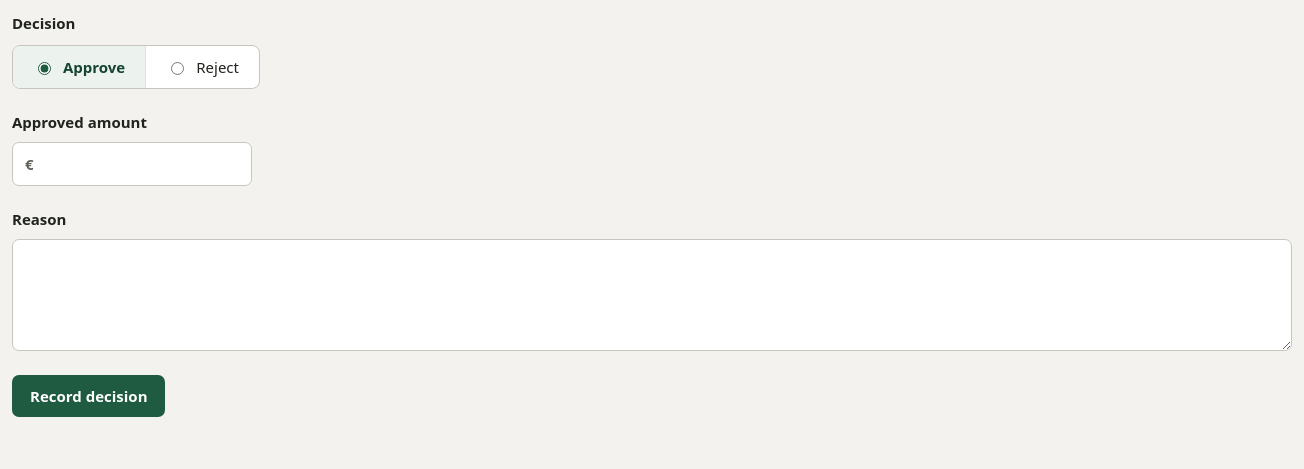
Test case: DecisionForm amount validation › requires a non-empty reason
The width and height of the screenshot is (1304, 469).
In the field labelled "Approved amount €": (142, 164) [34,142,251,185], type "100"
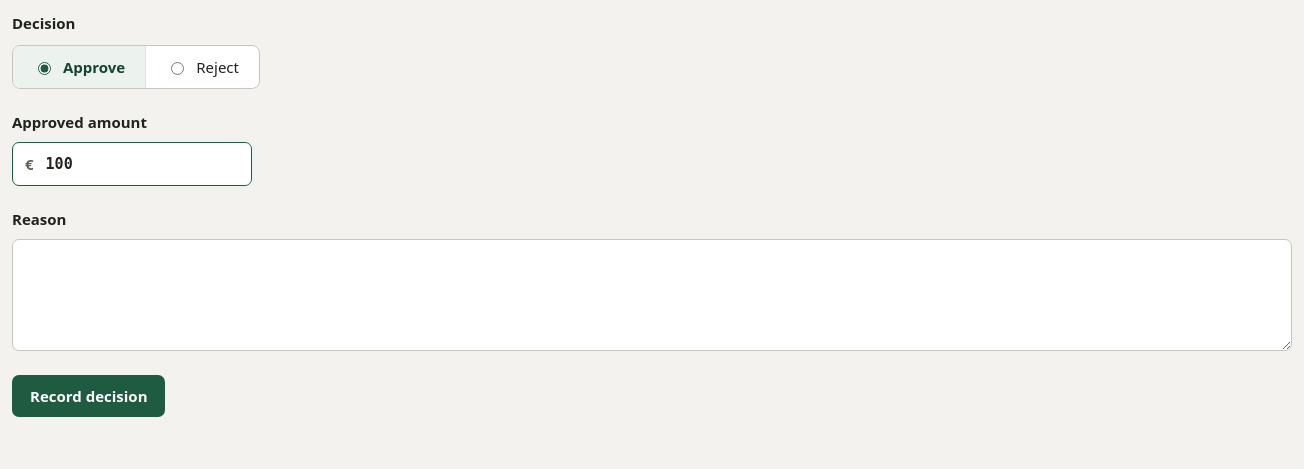
Click the button "Record decision": (89, 396) [12,374,166,417]
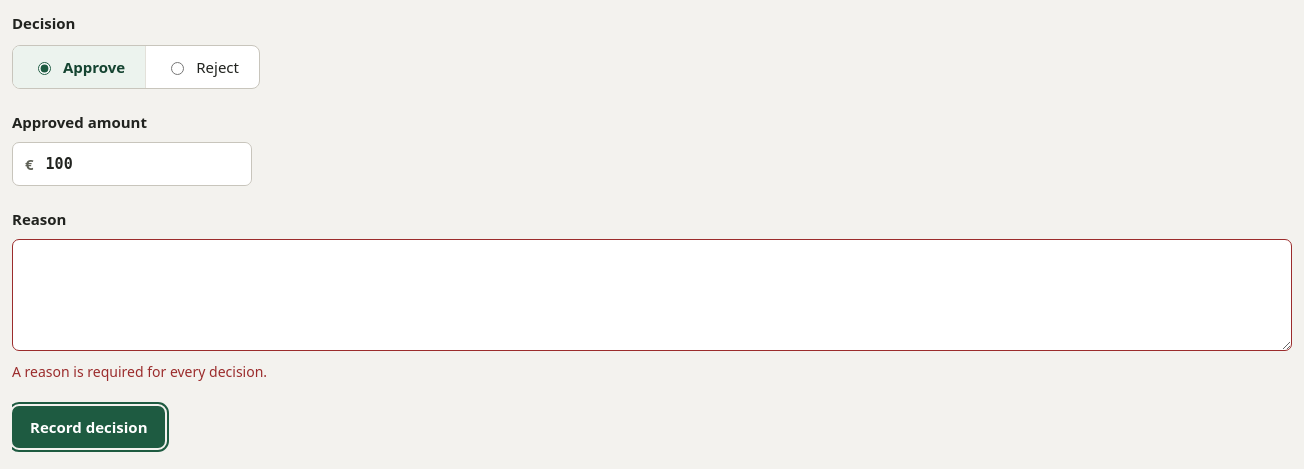
Expected: the message shows "reason is required", [12,362,267,380]
